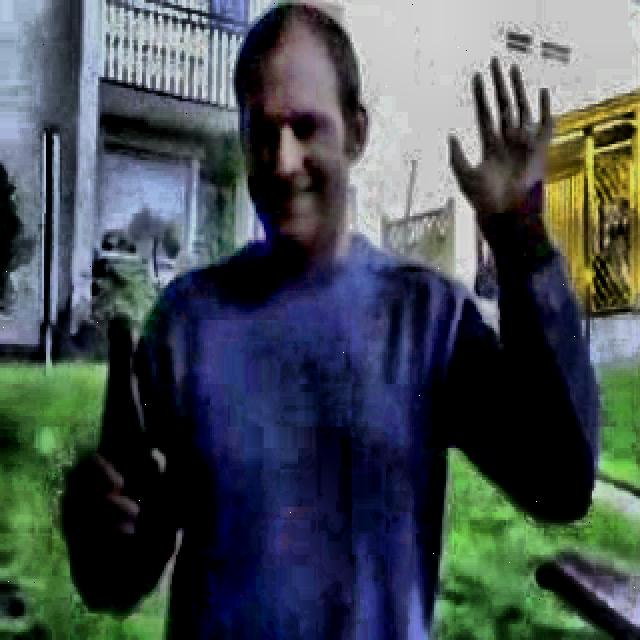L: (56, 1, 608, 640)
